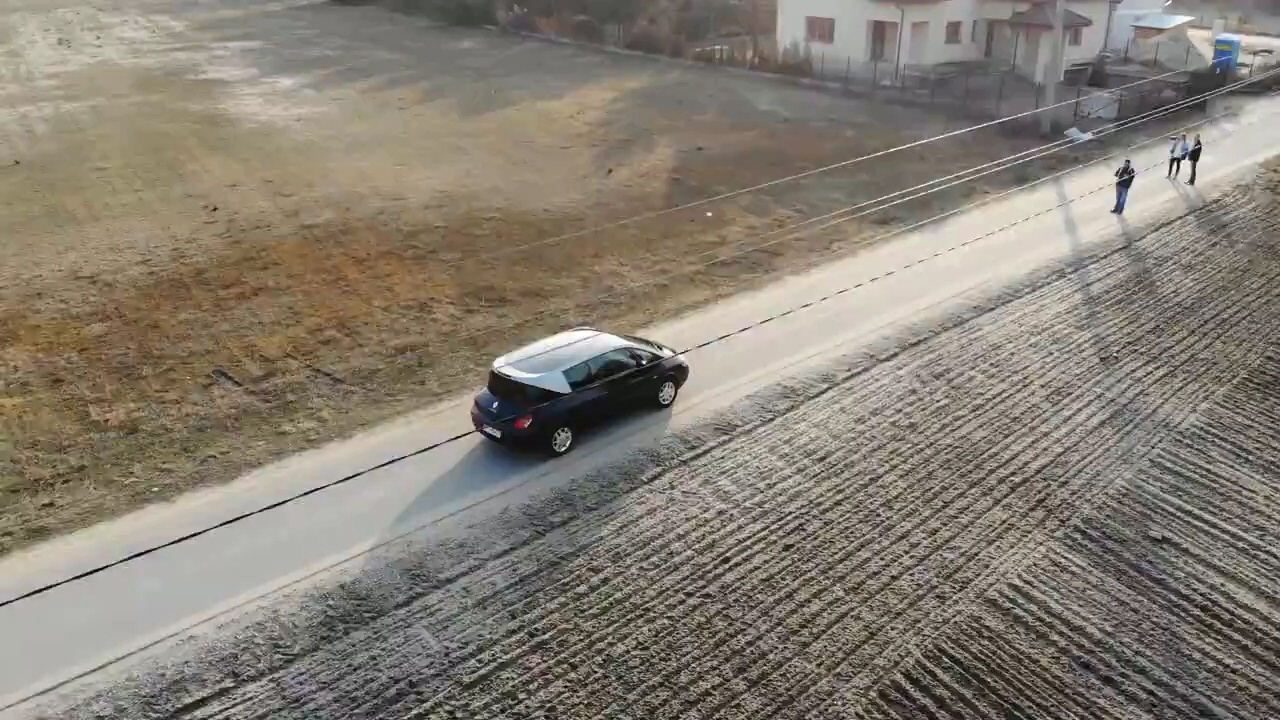araba: (468, 325, 692, 460)
insan: (1163, 129, 1191, 178), (1113, 158, 1133, 214), (1186, 130, 1203, 184)
